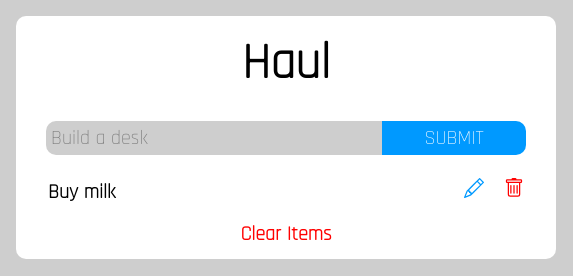
HaulPage › behavior › editing an item › should populate the input with the item title when the edit button is clicked
Click the button named "Edit Buy milk". click: [474, 188]
box: x1=464 y1=178 x2=484 y2=198
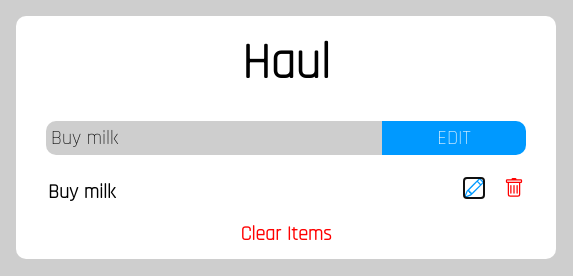
Now the field named "Grocery item name" holds "Buy milk", box x1=46 y1=120 x2=382 y2=154
